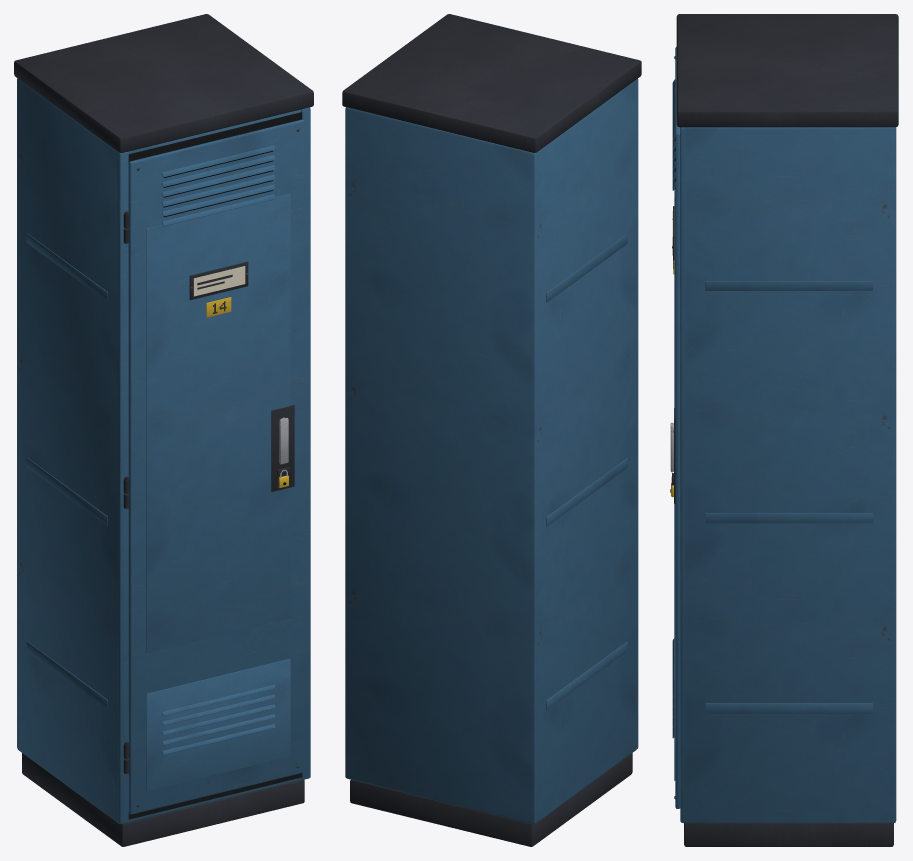
The model's file is locker.glb.
3 views of the same model, side by side, from view 1: azimuth 30°, elevation 25°; view 2: azimuth 150°, elevation 25°; view 3: azimuth 270°, elevation 25° (orthographic). The views are drawn at different scales.
Visible parts, largest first — view 1: LockerBody; view 2: LockerBody; view 3: LockerBody.
Part boxes in pixels (x1,y1,x2,y2): LockerBody: (14,14,313,846); LockerBody: (342,14,641,846); LockerBody: (670,14,898,846).
Size of the model in its own units: 0.5 by 1.75 by 0.4895.
10 materials, 6 textured.
